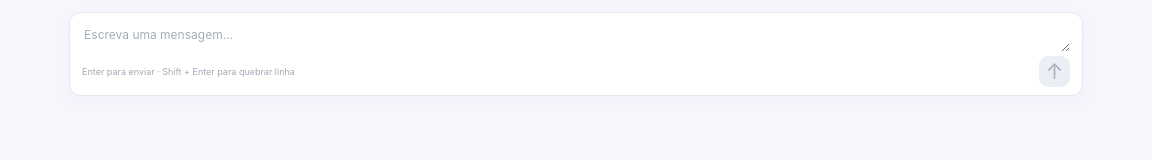
MessageComposer › limpa a mensagem somente depois de um envio aceito
Type "  Olá, grupo!  " into the text box labelled "Escreva uma mensagem" at [576, 38], box [82,24,1070,52]
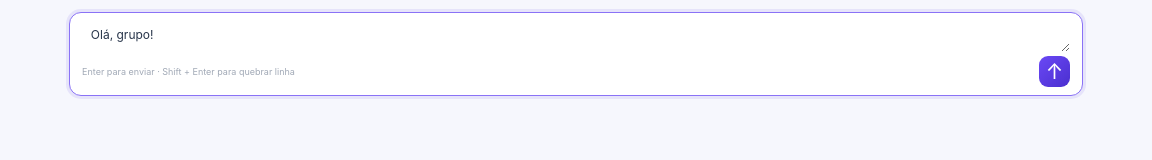
Submit the form named "Escreva uma mensagem"
Submit the form named "Escreva uma mensagem"
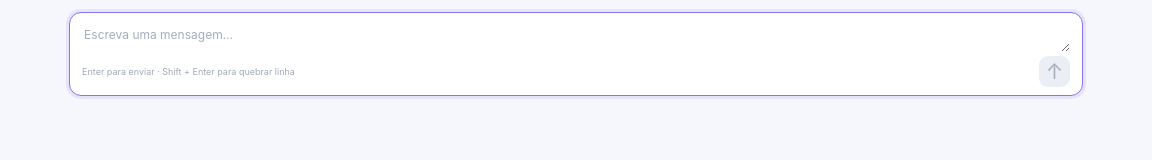
Check: the text box labelled "Escreva uma mensagem" is empty, box [82,24,1070,52]
